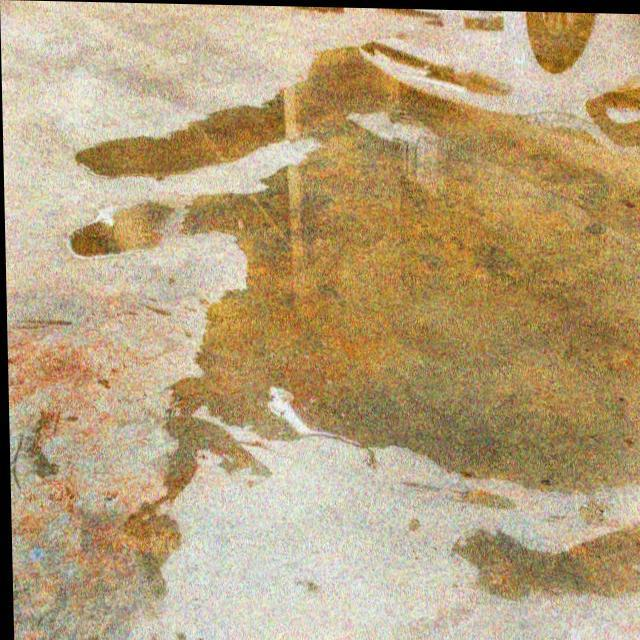water accumulation: (68, 12, 640, 621)
